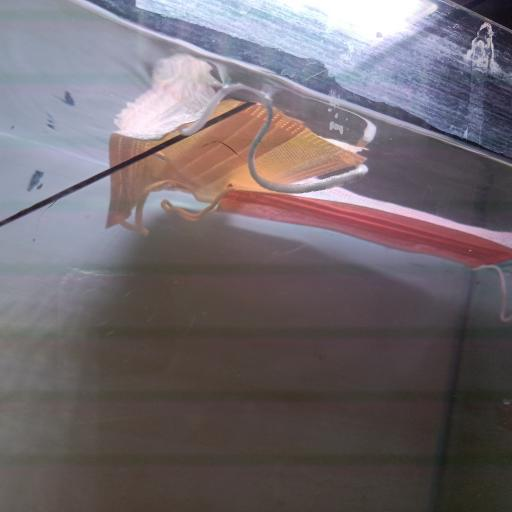mask: (112, 76, 366, 228), (158, 186, 512, 290)
